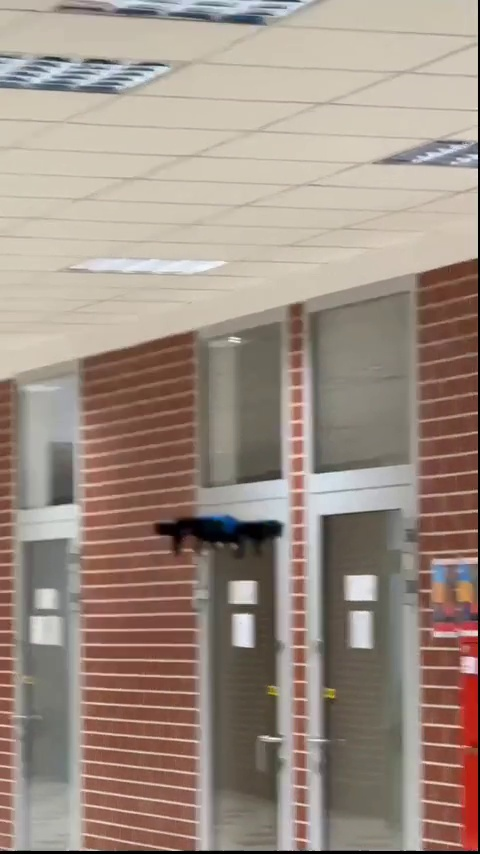drone: (161, 517, 285, 557)
